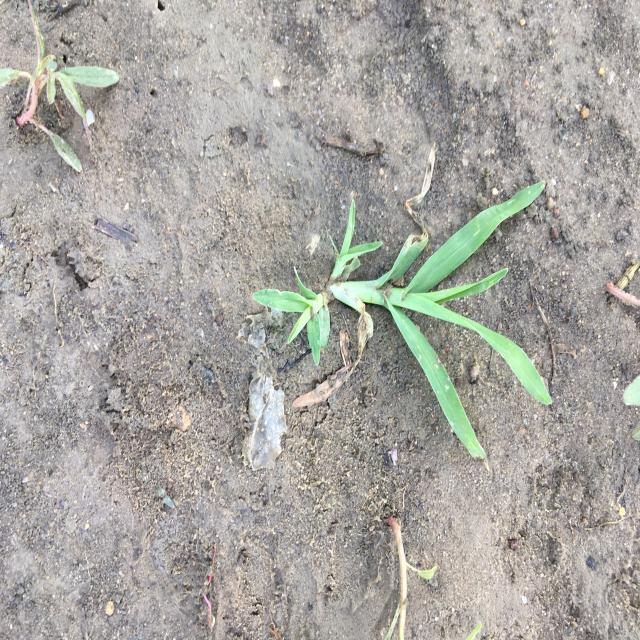Goosegrass: (250, 140, 555, 477)
Waterhemp: (0, 2, 121, 175)
